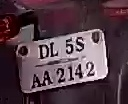1: (67, 65, 75, 82)
2: (55, 65, 66, 84), (84, 62, 96, 76)
4: (75, 64, 84, 80)
5: (62, 38, 75, 57)
A: (29, 74, 42, 89), (42, 70, 54, 86)
D: (39, 44, 50, 61)
L: (48, 42, 60, 60)
S: (74, 37, 86, 54)
